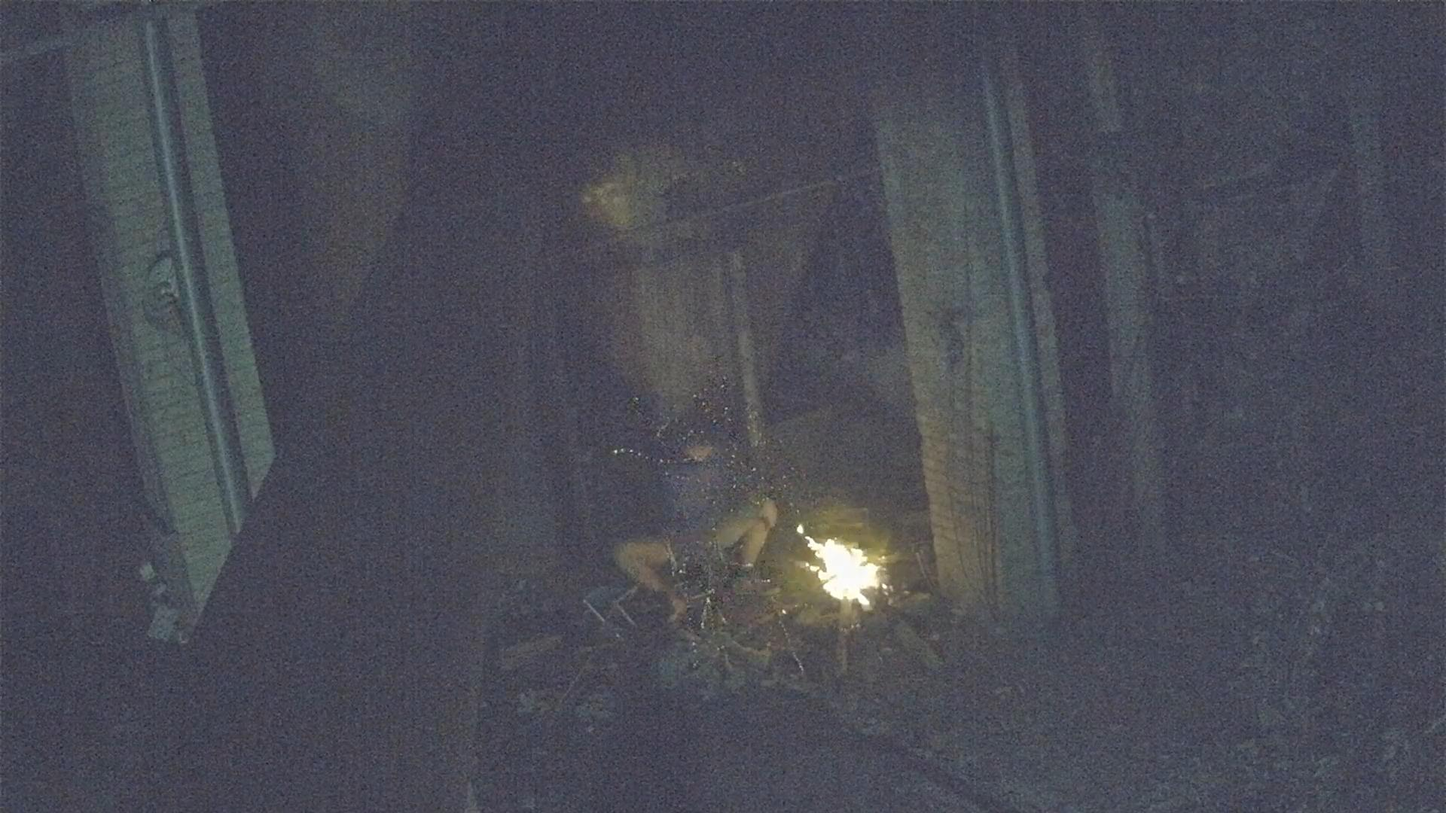fire: (805, 537, 882, 612)
